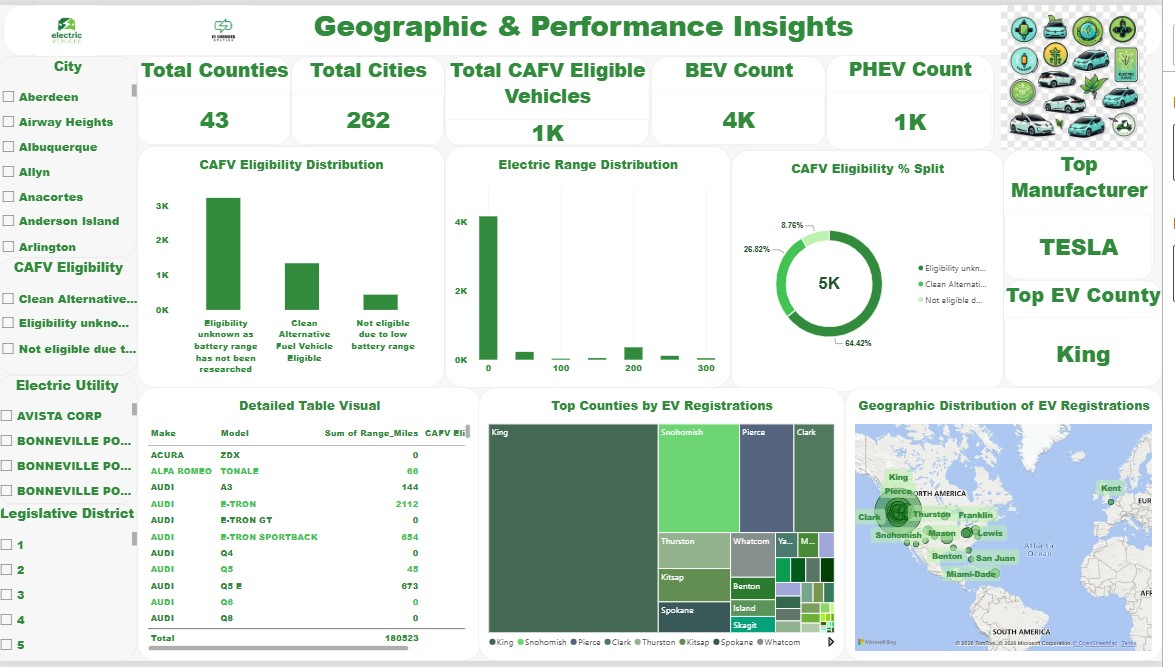

The dashboard page shown, as its layout file describes it:
{"tool":"powerbi","page":{"name":"Geographic & Performance Insights","canvas":[1920,1080],"ordinal":1},"visuals":[{"type":"textbox","title":"Geographic & Performance Insights","box":[12.3,0,1908.1,84.4],"z":0},{"type":"cardVisual","title":"Total Counties","fields":{"Data":["EV_Cleaned_Dataset.Total Counties"]},"box":[232.6,84.4,253.2,148.2],"z":1000},{"type":"cardVisual","title":"Total Cities","fields":{"Data":["EV_Cleaned_Dataset.Total Cities"]},"box":[485.8,84.4,253.2,148.2],"z":2000},{"type":"cardVisual","title":"Total CAFV Eligible Vehicles","fields":{"Data":["EV_Cleaned_Dataset.CAFV Eligible Vehicles"]},"box":[738.9,84.4,337.6,148.2],"z":3000},{"type":"cardVisual","title":"Top Manufacturer","fields":{"Data":["EV_Cleaned_Dataset.Top Manufacturer"]},"box":[1659,238.8,247,214.1],"z":4000},{"type":"cardVisual","title":"Top EV County","fields":{"Data":["EV_Cleaned_Dataset.Avg Vehicles per County"]},"box":[1659,452.8,261.4,177],"z":5000},{"type":"slicer","title":"City","fields":{"Values":["EV_Cleaned_Dataset.City"]},"box":[0,109.1,232.6,306.7],"z":6000},{"type":"slicer","title":"CAFV Eligibility","fields":{"Values":["EV_Cleaned_Dataset.Clean Alternative Fuel Vehicle (CAFV) Eligibility"]},"box":[2.1,415.8,232.6,193.5],"z":7000},{"type":"slicer","title":"Electric Utility","fields":{"Values":["EV_Cleaned_Dataset.Electric Utility"]},"box":[0,609.3,232.6,212],"z":8000},{"type":"slicer","title":"Legislative District","fields":{"Values":["EV_Cleaned_Dataset.Legislative District"]},"box":[0,821.3,232.6,259.3],"z":9000},{"type":"clusteredColumnChart","title":"CAFV Eligibility Distribution","fields":{"Category":["EV_Cleaned_Dataset.Clean Alternative Fuel Vehicle (CAFV) Eligibility"],"Y":["EV_Cleaned_Dataset.Total EVs"]},"box":[232.6,232.6,506.3,397.3],"z":10000},{"type":"clusteredColumnChart","title":"Electric Range Distribution","fields":{"Category":["EV_Cleaned_Dataset.Range_Miles (bins)"],"Y":["EV_Cleaned_Dataset.Total EVs"]},"box":[738.9,232.6,471.4,397.3],"z":11000},{"type":"tableEx","title":"Detailed Table Visual","fields":{"Values":["EV_Cleaned_Dataset.Make","EV_Cleaned_Dataset.Model","Sum(EV_Cleaned_Dataset.Range_Miles)","EV_Cleaned_Dataset.CAFV Eligible Vehicles"]},"box":[232.6,629.8,566,450.8],"z":12000},{"type":"donutChart","title":"CAFV Eligibility % Split","fields":{"Category":["EV_Cleaned_Dataset.Clean Alternative Fuel Vehicle (CAFV) Eligibility"],"Y":["EV_Cleaned_Dataset.Total EVs"]},"box":[1210.3,238.8,448.7,397.3],"z":13000},{"type":"map","title":"Geographic Distribution of EV Registrations","fields":{"Category":["EV_Cleaned_Dataset.County"],"Size":["EV_Cleaned_Dataset.Total EVs"]},"box":[1397.6,629.8,522.8,450.8],"z":15000},{"type":"treemap","title":"Detailed Table Visual","fields":{"Group":["EV_Cleaned_Dataset.County"],"Values":["CountNonNull(EV_Cleaned_Dataset.County)"]},"box":[794.5,629.8,603.1,450.8],"z":15001},{"type":"cardVisual","title":"BEV Count","fields":{"Data":["EV_Cleaned_Dataset.BEV Count"]},"box":[1078.6,84.4,288.2,148.2],"z":15002},{"type":"cardVisual","title":"PHEV Count","fields":{"Data":["EV_Cleaned_Dataset.PHEV Count"]},"box":[1366.7,82.3,275.8,156.4],"z":15003},{"type":"image","box":[0,0,232.6,84.4],"z":15004},{"type":"image","box":[1628.1,0,292.3,238.8],"z":15005},{"type":"image","box":[232.6,0,284,82.3],"z":15006}]}

Visuals, with their boxes in screenshot pixels (x1, y1, x2, y2), scaled from the page's 1920x1080 canvas onto the 1175x667 screenshot:
"Geographic & Performance Insights" textbox: crop(8, 0, 1174, 52)
"Total Counties" cardVisual: crop(142, 52, 297, 144)
"Total Cities" cardVisual: crop(297, 52, 452, 144)
"Total CAFV Eligible Vehicles" cardVisual: crop(452, 52, 659, 144)
"Top Manufacturer" cardVisual: crop(1015, 147, 1166, 280)
"Top EV County" cardVisual: crop(1015, 280, 1174, 389)
"City" slicer: crop(0, 67, 142, 257)
"CAFV Eligibility" slicer: crop(1, 257, 144, 376)
"Electric Utility" slicer: crop(0, 376, 142, 507)
"Legislative District" slicer: crop(0, 507, 142, 666)
"CAFV Eligibility Distribution" clusteredColumnChart: crop(142, 144, 452, 389)
"Electric Range Distribution" clusteredColumnChart: crop(452, 144, 741, 389)
"Detailed Table Visual" tableEx: crop(142, 389, 489, 666)
"CAFV Eligibility % Split" donutChart: crop(741, 147, 1015, 393)
"Geographic Distribution of EV Registrations" map: crop(855, 389, 1174, 666)
"Detailed Table Visual" treemap: crop(486, 389, 855, 666)
"BEV Count" cardVisual: crop(660, 52, 836, 144)
"PHEV Count" cardVisual: crop(836, 51, 1005, 147)
image: crop(0, 0, 142, 52)
image: crop(996, 0, 1174, 147)
image: crop(142, 0, 316, 51)
